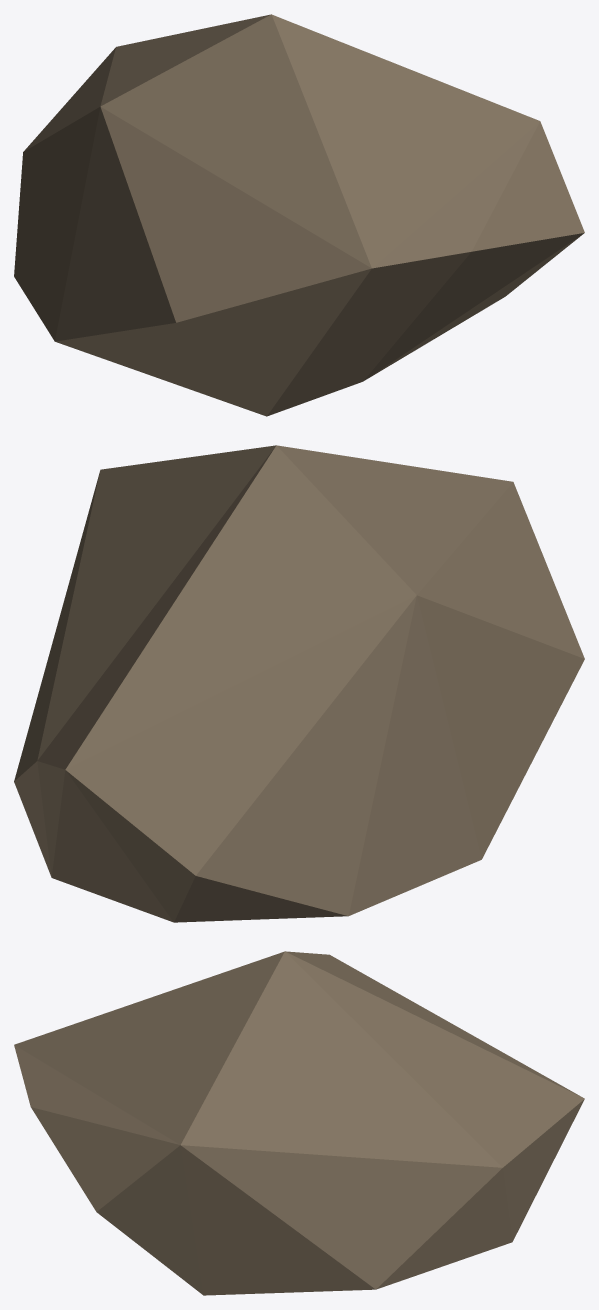
Rendered from Stone_2_brown_mat.fbx.
3 views of the same model, one above another, from view 1: azimuth 30°, elevation 25°; view 2: azimuth 150°, elevation 25°; view 3: azimuth 270°, elevation 25° (orthographic). The views are drawn at different scales.
Parts seen in each view (by area): view 1: Stone_2_brown_mat; view 2: Stone_2_brown_mat; view 3: Stone_2_brown_mat.
Boxes of the visible parts, <box> form: Stone_2_brown_mat: <box>14,14,584,416</box>; Stone_2_brown_mat: <box>14,445,584,922</box>; Stone_2_brown_mat: <box>14,951,584,1295</box>.
Size of the model in its own units: 27.27 by 18.87 by 37.23.
